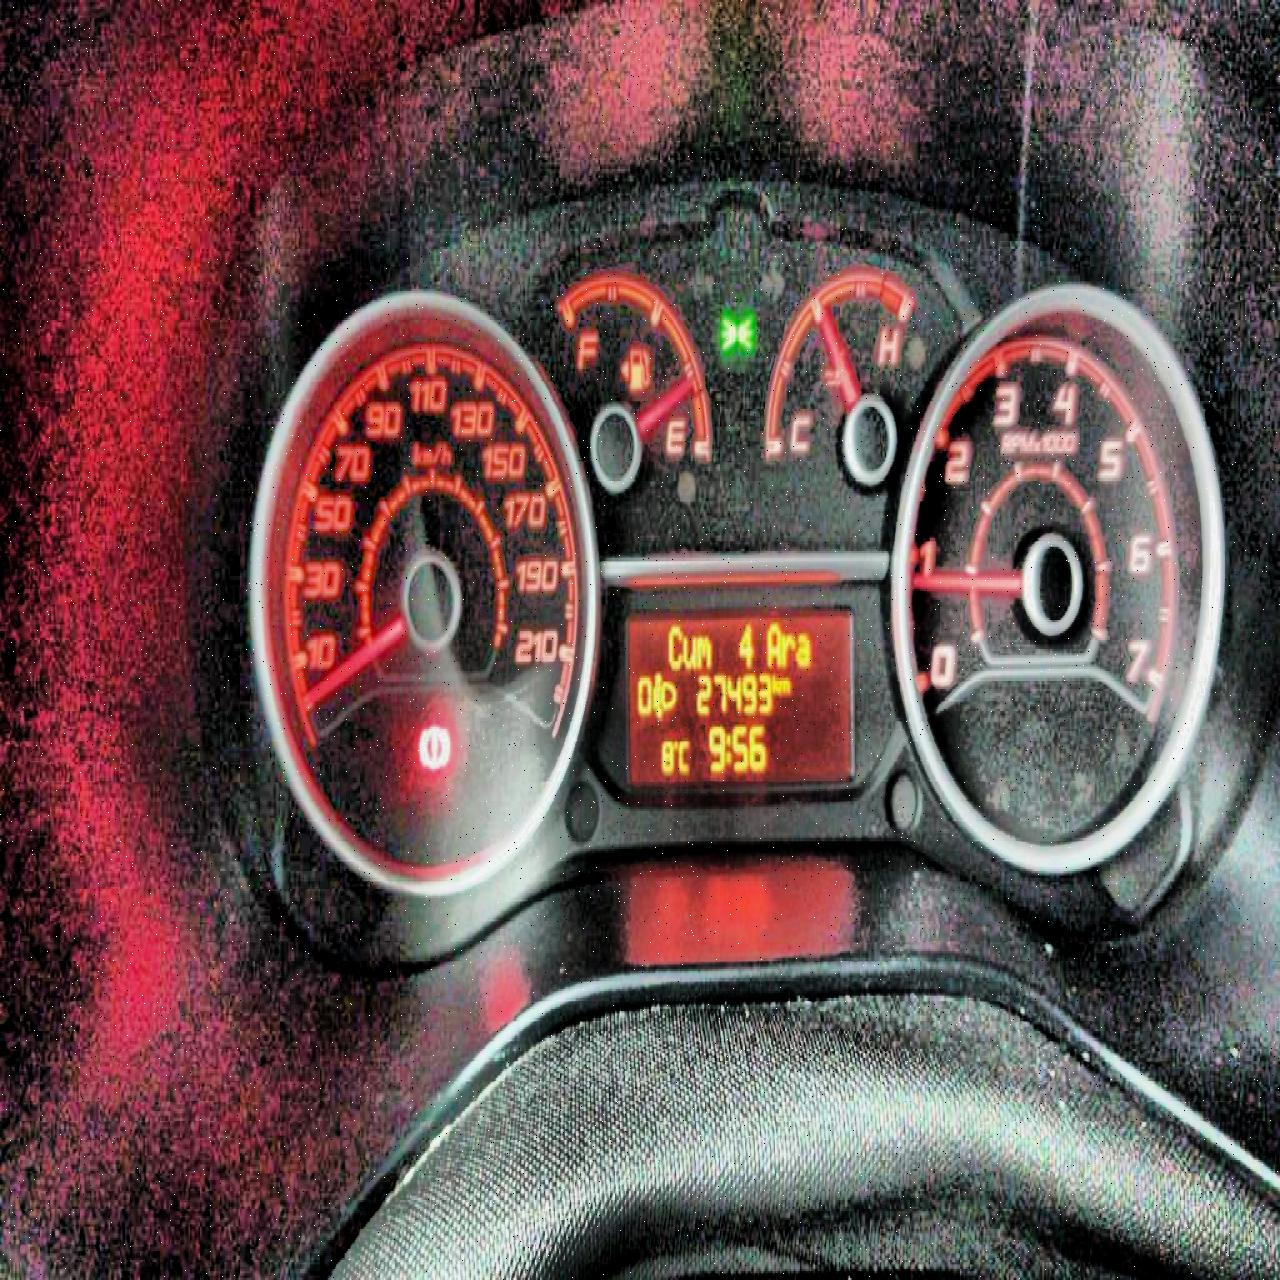0: (636, 674, 652, 715)
2: (695, 670, 710, 713)
3: (756, 670, 771, 713)
4: (736, 620, 753, 669), (727, 670, 742, 712)
5: (731, 720, 748, 771)
6: (748, 720, 767, 771)
7: (712, 670, 727, 712)
8: (659, 737, 674, 774)
9: (707, 722, 723, 771), (742, 672, 756, 716)
X: (764, 618, 779, 667), (667, 620, 681, 670), (695, 631, 712, 670), (795, 629, 811, 667), (681, 629, 695, 670), (779, 629, 794, 667), (678, 735, 690, 774), (723, 729, 731, 764), (778, 674, 790, 694), (771, 669, 777, 693)
odometer: (620, 595, 859, 801)
